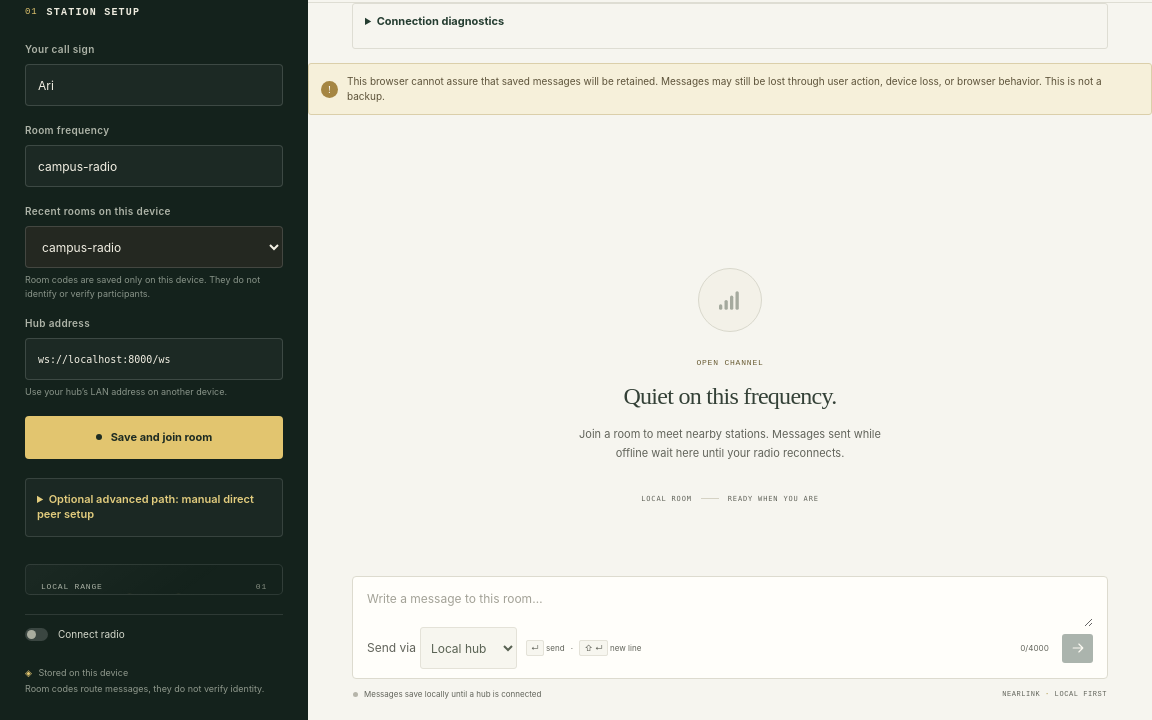
Test case: browser app messaging flow › re-advertises once when a hub peer inventory arrives after local join readiness
(page scrolled)
What coordinates should you click on to do the following:
click the button "Connect radio"
I would click on:
 (154, 634)
Its box is x1=25 y1=614 x2=283 y2=654.
(page scrolled)
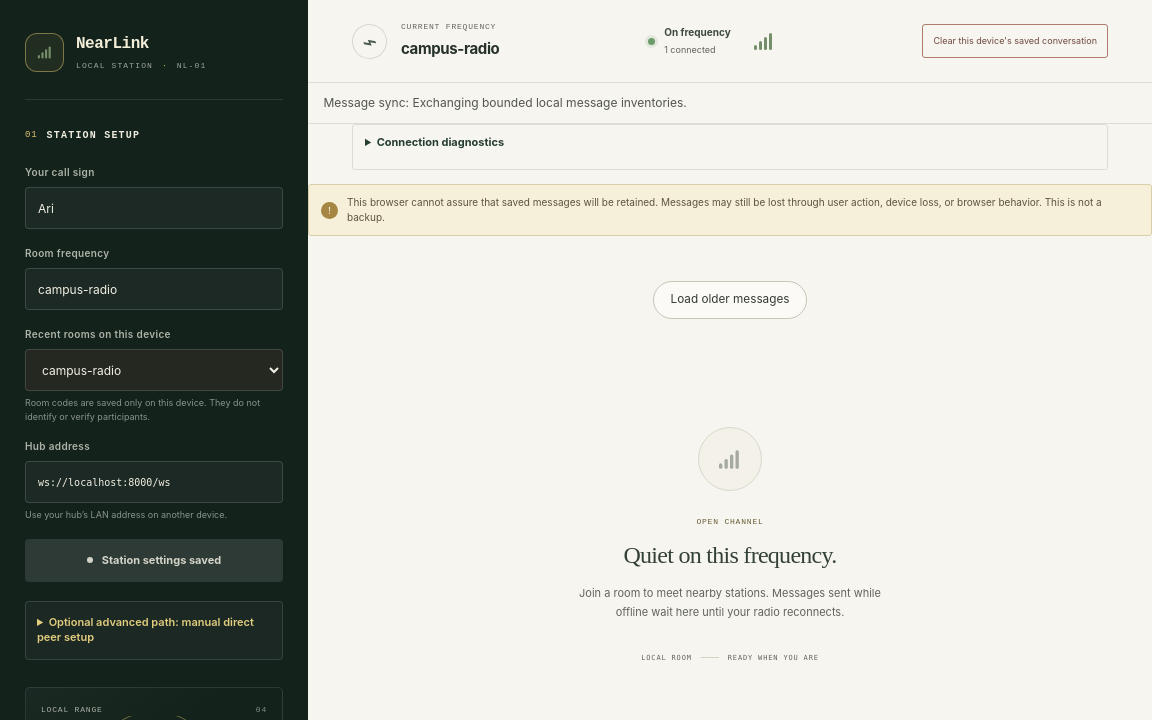
Now the text "On frequency" is shown, box x1=664 y1=25 x2=731 y2=40
